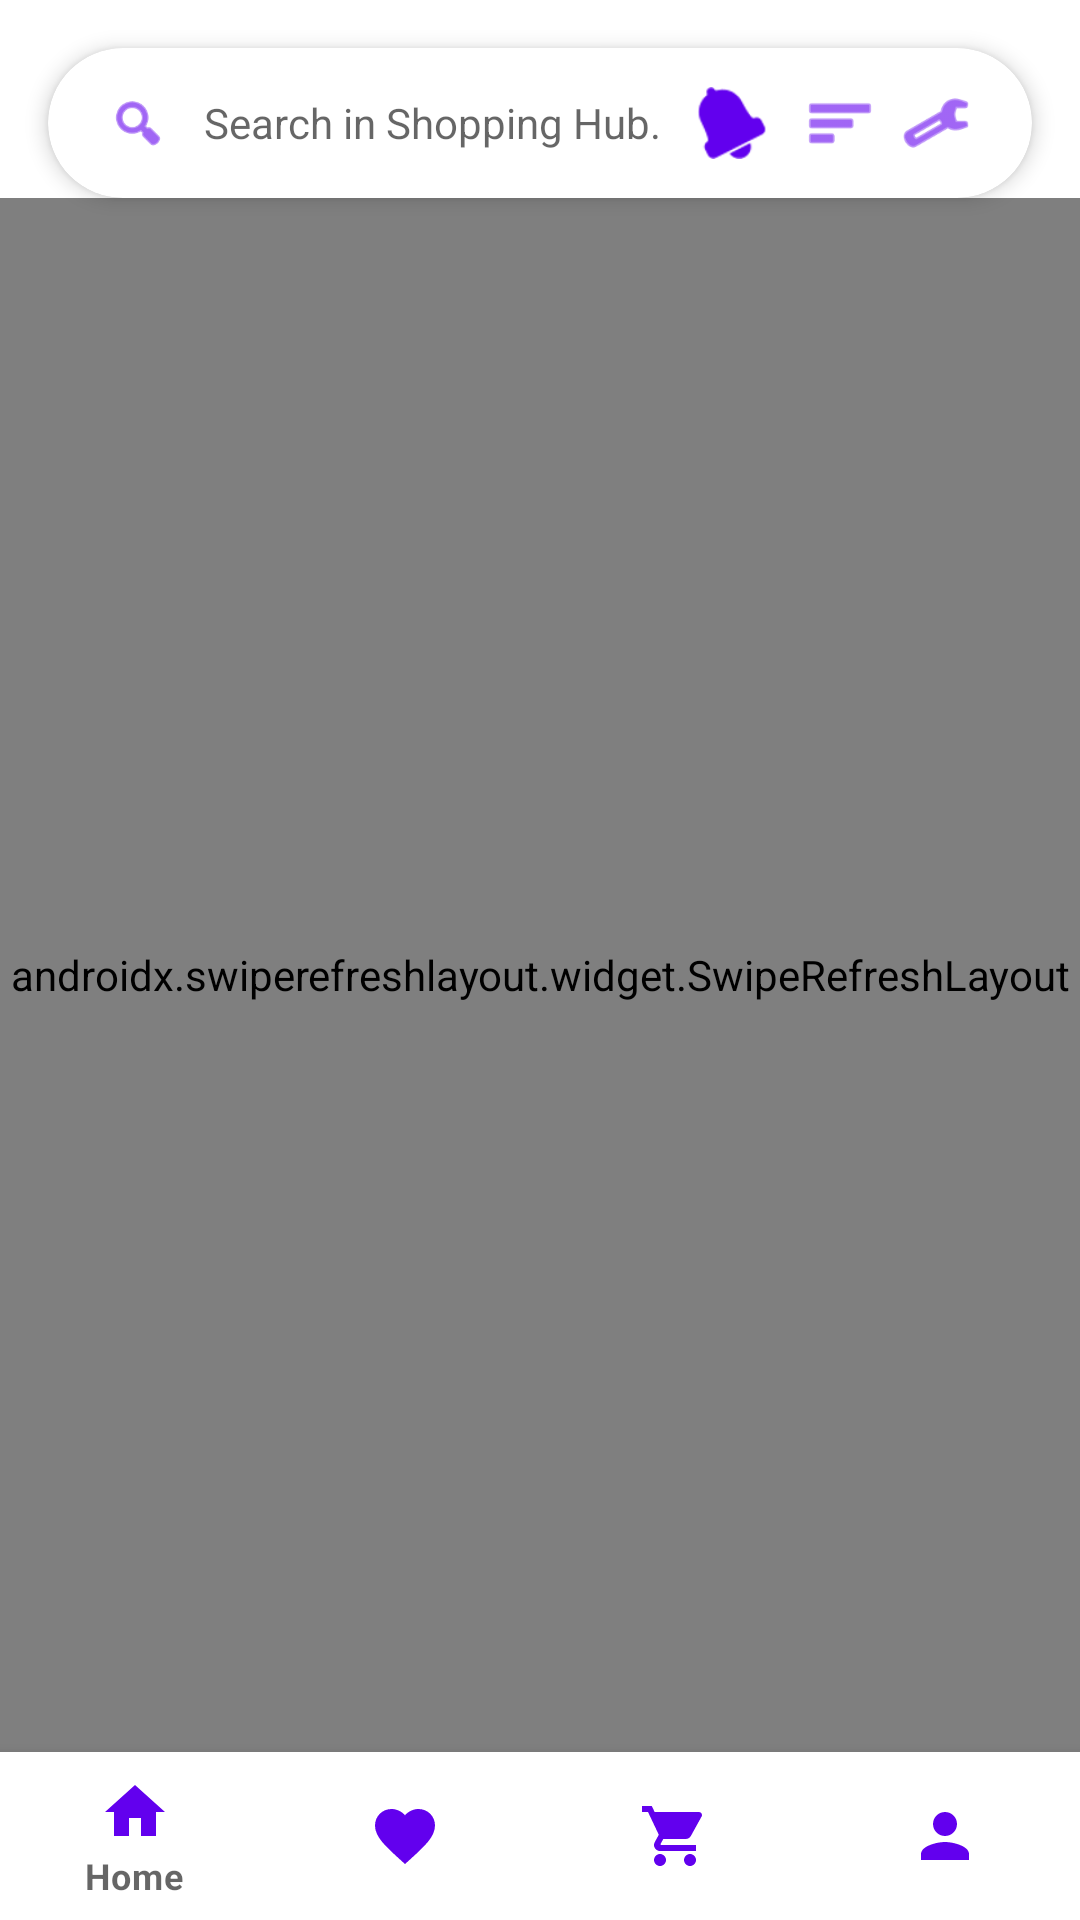

Icon click points for this 1080px×1920px phone screenshot, format [x,y]:
manage: [935,123]
popup reminder: [732,123]
sort by size: [840,123]
